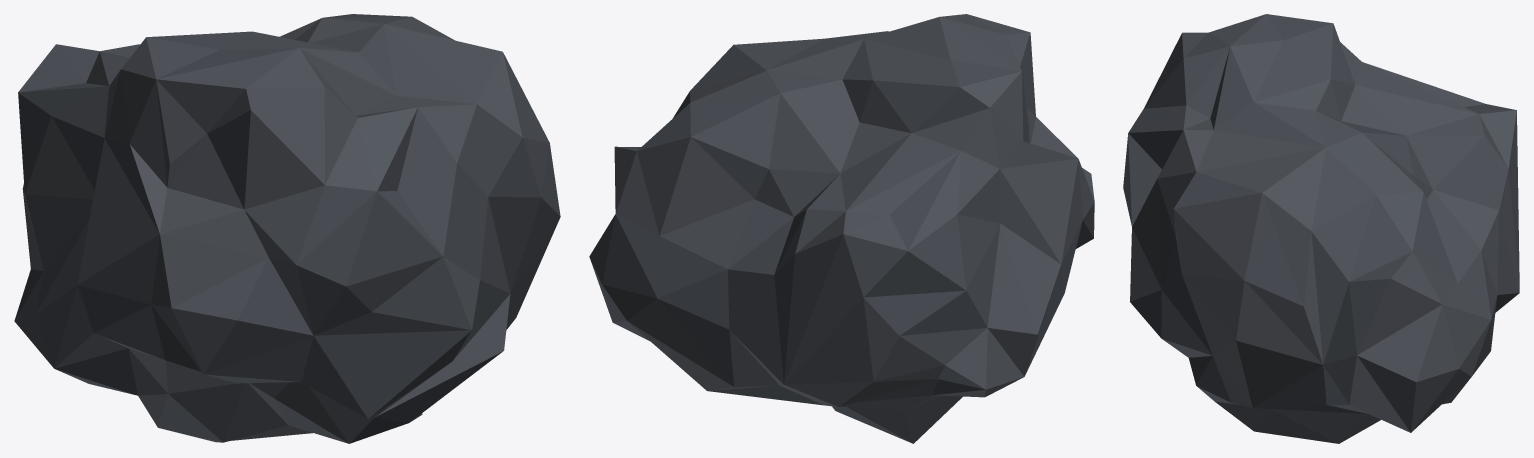
Rendered from Rock_Med_1.fbx.
3 renders of one model, left to right at view 1: azimuth 30°, elevation 25°; view 2: azimuth 150°, elevation 25°; view 3: azimuth 270°, elevation 25°, orthographic. The views are drawn at different scales.
Visible parts, largest first — view 1: Group6231; view 2: Group6231; view 3: Group6231.
Boxes of the visible parts, x1,y1,x2,y2 form: Group6231: (14, 14, 560, 443); Group6231: (589, 14, 1094, 443); Group6231: (1123, 14, 1519, 443).
Size of the model in its own units: 366 by 311 by 320.
